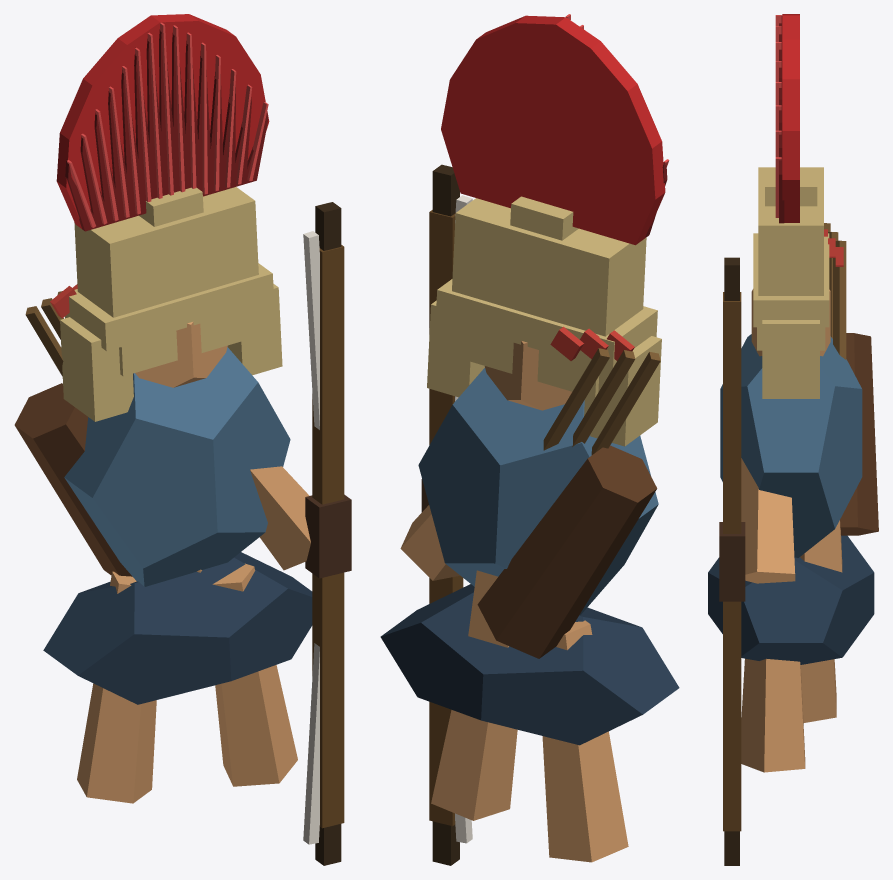
File: romanSoldier_longbow_red.glb
The picture shows the model from 3 angles, left to right: view 1: azimuth 30°, elevation 25°; view 2: azimuth 150°, elevation 25°; view 3: azimuth 270°, elevation 25°; orthographic projection. The views are drawn at different scales.
Parts seen in each view (by area): view 1: soldier-helm, n3, n5, soldier-crest, soldier-crest-feathers, soldier-crest-stems, n24, n27, n54, n59, n75, n18 (+7 smaller); view 2: soldier-crest, soldier-helm, n5, n3, n75, n27, n24, n54, n7, n59, n18, n85 (+6 smaller); view 3: n3, soldier-helm, n5, n24, n18, n54, n59, n75, soldier-crest, n27, n51, n85 (+7 smaller).
Part boxes in pixels (x1=…): soldier-helm: x1=60, y1=187, x2=282, y2=421; n3: x1=64, y1=347, x2=290, y2=586; n5: x1=43, y1=552, x2=312, y2=704; soldier-crest: x1=56, y1=14, x2=269, y2=228; soldier-crest-feathers: x1=65, y1=29, x2=268, y2=231; soldier-crest-stems: x1=67, y1=22, x2=268, y2=227; n24: x1=212, y1=563, x2=297, y2=786; n27: x1=77, y1=571, x2=156, y2=803; n54: x1=312, y1=245, x2=344, y2=504; n59: x1=312, y1=572, x2=344, y2=828; n75: x1=14, y1=383, x2=132, y2=576; n18: x1=250, y1=466, x2=310, y2=570; soldier-crest: x1=441, y1=15, x2=665, y2=245; soldier-helm: x1=427, y1=196, x2=661, y2=446; n5: x1=380, y1=584, x2=679, y2=745; n3: x1=418, y1=368, x2=658, y2=615; n75: x1=477, y1=445, x2=657, y2=658; n27: x1=542, y1=620, x2=628, y2=862; n24: x1=431, y1=710, x2=517, y2=820; n54: x1=429, y1=210, x2=455, y2=444; n7: x1=484, y1=340, x2=571, y2=410; n59: x1=429, y1=575, x2=463, y2=826; n18: x1=400, y1=505, x2=459, y2=580; n85: x1=543, y1=348, x2=609, y2=450; n3: x1=720, y1=334, x2=862, y2=557; soldier-helm: x1=753, y1=167, x2=829, y2=398; n5: x1=708, y1=535, x2=874, y2=664; n24: x1=741, y1=658, x2=805, y2=772; n18: x1=741, y1=458, x2=795, y2=583; n54: x1=723, y1=292, x2=741, y2=533; n59: x1=723, y1=601, x2=741, y2=831; n75: x1=840, y1=333, x2=878, y2=535; soldier-crest: x1=782, y1=14, x2=799, y2=222; n27: x1=800, y1=659, x2=836, y2=722; n51: x1=719, y1=522, x2=745, y2=601; n85: x1=833, y1=240, x2=846, y2=359.
Size of the model in its own units: 0.44 by 1.32 by 0.261.
